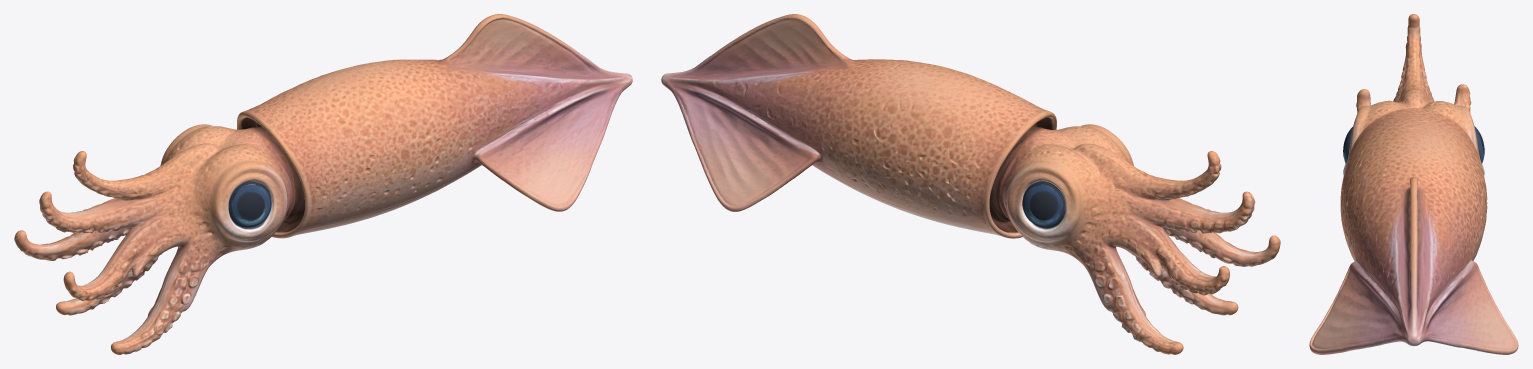
The model's file is Calamar-dedal-panameño.glb.
3 views of the same model, side by side, from view 1: azimuth 30°, elevation 25°; view 2: azimuth 150°, elevation 25°; view 3: azimuth 270°, elevation 25° (orthographic).
Visible parts, largest first — view 1: tripo_node_ff3acc1a-c2b7-47f5-87f4-0d96838f950d; view 2: tripo_node_ff3acc1a-c2b7-47f5-87f4-0d96838f950d; view 3: tripo_node_ff3acc1a-c2b7-47f5-87f4-0d96838f950d.
Boxes of the visible parts, left/top/right/bottom form: tripo_node_ff3acc1a-c2b7-47f5-87f4-0d96838f950d: left=14, top=14, right=632, bottom=354; tripo_node_ff3acc1a-c2b7-47f5-87f4-0d96838f950d: left=661, top=14, right=1280, bottom=354; tripo_node_ff3acc1a-c2b7-47f5-87f4-0d96838f950d: left=1309, top=14, right=1518, bottom=354.
Bounding box in the file's own units: 0.9996 × 0.3582 × 0.3065.
1 material, 1 textured.
